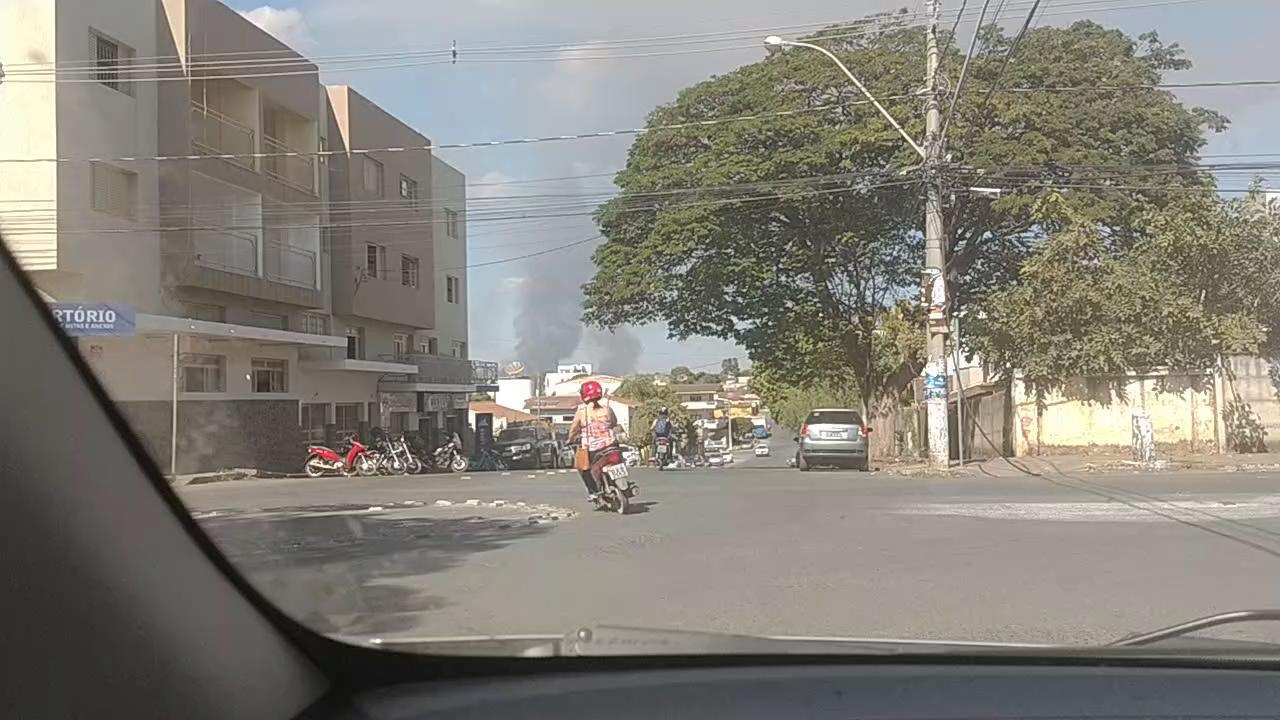smoke: (508, 194, 588, 358)
